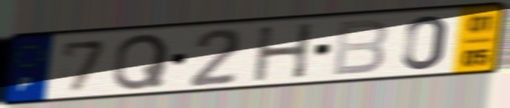0: (399, 14, 449, 73)
2: (188, 26, 247, 89)
7: (60, 37, 108, 94)
B: (330, 17, 391, 78)
H: (252, 21, 316, 84)
Q: (110, 31, 173, 92)
